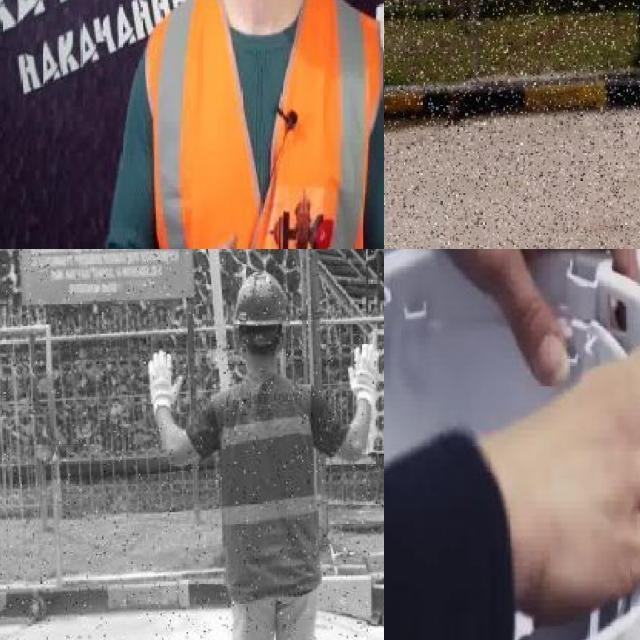apron: (142, 347, 182, 416), (346, 342, 382, 409)
